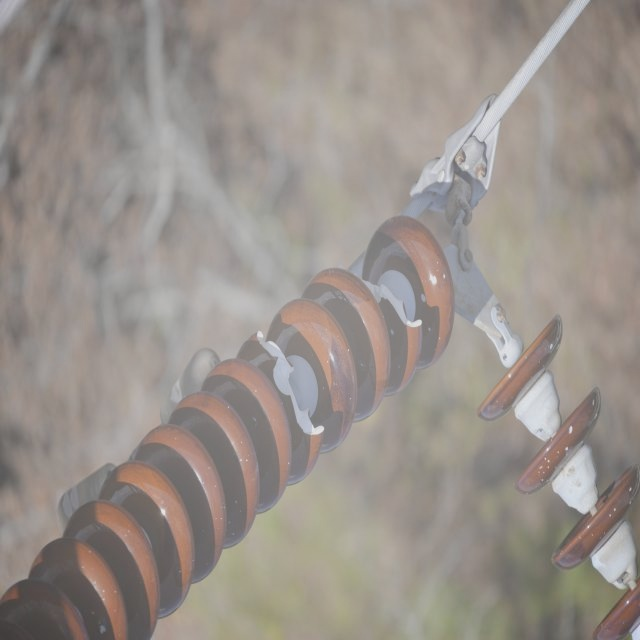broken: (254, 326, 325, 441), (354, 269, 424, 331)
insulator: (3, 216, 453, 636), (476, 317, 636, 640)
